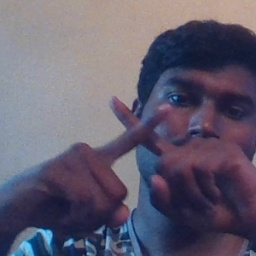X: (80, 86, 207, 215)
